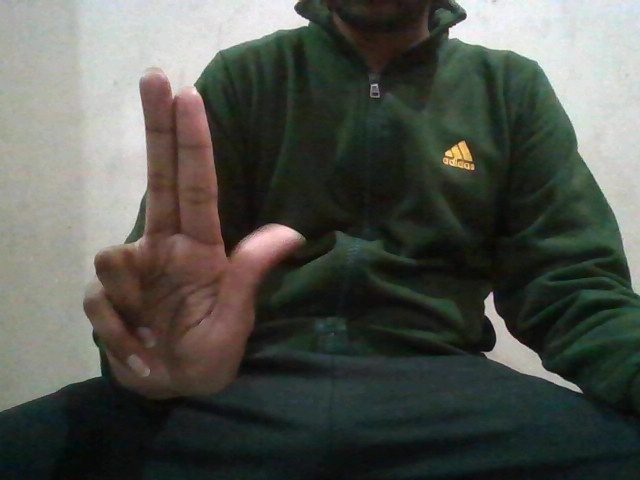K: (83, 67, 301, 397)
